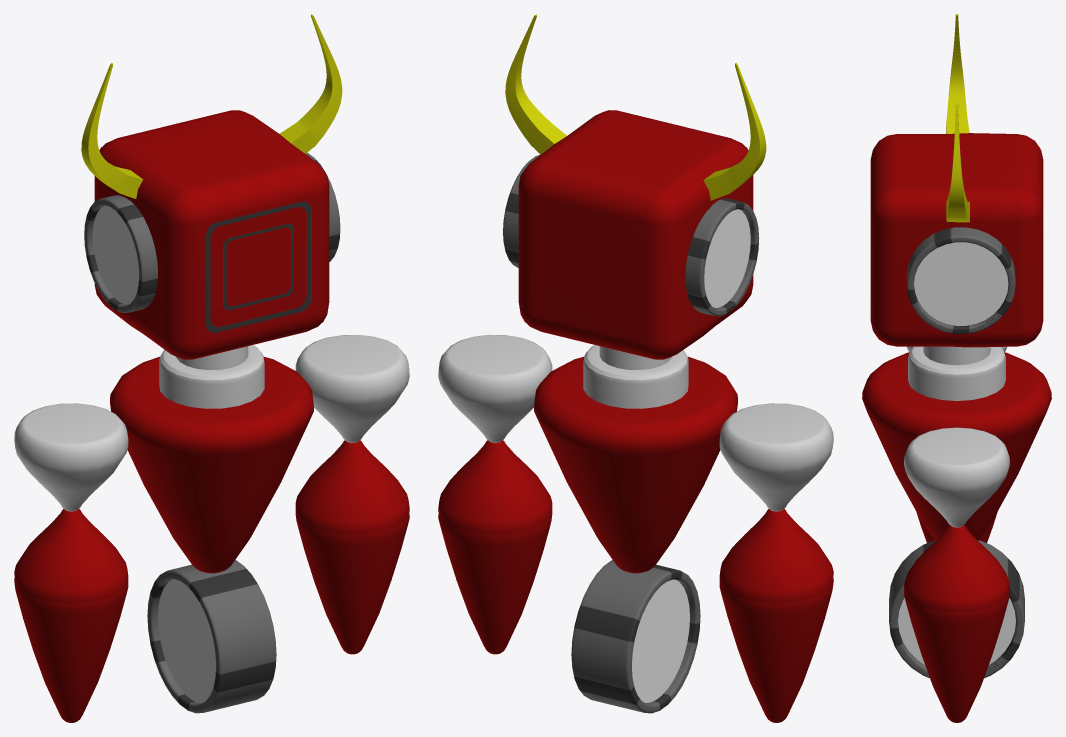
Rendered from Deamon.fbx.
3 renders of one model, left to right at view 1: azimuth 30°, elevation 25°; view 2: azimuth 150°, elevation 25°; view 3: azimuth 270°, elevation 25°, orthographic. The views are drawn at different scales.
Parts seen in each view (by area): view 1: Head, pCylinder2, pCylinder8 (×2), pCylinder4 (×2), pCylinder7, pCylinder9 (×2), pCylinder12, pCylinder1, pCylinder11; view 2: Head, pCylinder2, pCylinder8 (×2), pCylinder4 (×2), pCylinder7, pCylinder9 (×2), pCylinder12, pCylinder1, pCylinder11; view 3: Head, pCylinder2, pCylinder11, pCylinder8, pCylinder4, pCylinder9, pCylinder1, pCylinder7.
Part boxes in pixels (bbox=[...]): Head: bbox=[81, 14, 342, 359]; pCylinder2: bbox=[110, 356, 313, 573]; pCylinder8 (×2): bbox=[14, 335, 409, 511]; pCylinder4 (×2): bbox=[14, 509, 409, 722]; pCylinder7: bbox=[147, 560, 276, 713]; pCylinder9 (×2): bbox=[14, 440, 409, 603]; pCylinder12: bbox=[84, 195, 157, 312]; pCylinder1: bbox=[159, 345, 264, 408]; pCylinder11: bbox=[306, 152, 340, 261]; Head: bbox=[505, 14, 766, 359]; pCylinder2: bbox=[534, 356, 737, 573]; pCylinder8 (×2): bbox=[438, 334, 833, 511]; pCylinder4 (×2): bbox=[438, 509, 833, 722]; pCylinder7: bbox=[571, 560, 700, 713]; pCylinder9 (×2): bbox=[438, 440, 833, 603]; pCylinder12: bbox=[685, 198, 759, 316]; pCylinder1: bbox=[583, 345, 688, 408]; pCylinder11: bbox=[503, 154, 540, 267]; Head: bbox=[870, 14, 1043, 347]; pCylinder2: bbox=[862, 352, 1051, 540]; pCylinder11: bbox=[907, 227, 1015, 333]; pCylinder8: bbox=[904, 427, 1009, 527]; pCylinder4: bbox=[904, 590, 1009, 722]; pCylinder9: bbox=[904, 525, 1009, 612]; pCylinder1: bbox=[908, 346, 1005, 400]; pCylinder7: bbox=[889, 540, 1024, 678].
Size of the model in its own units: 64.85 by 108 by 30.31.
